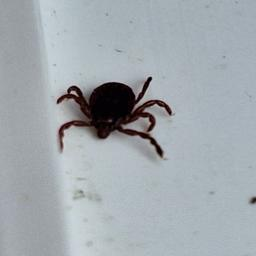Rhipicephalus sanguineus: (56, 76, 171, 158)
